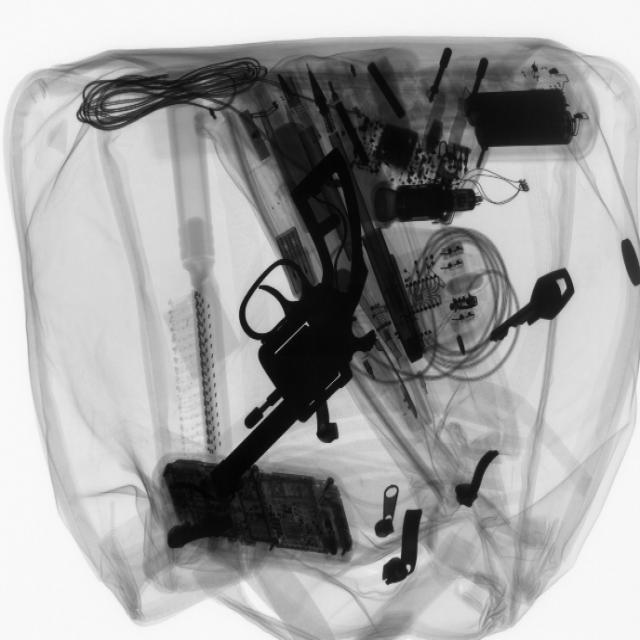GUN: (222, 124, 381, 510)
